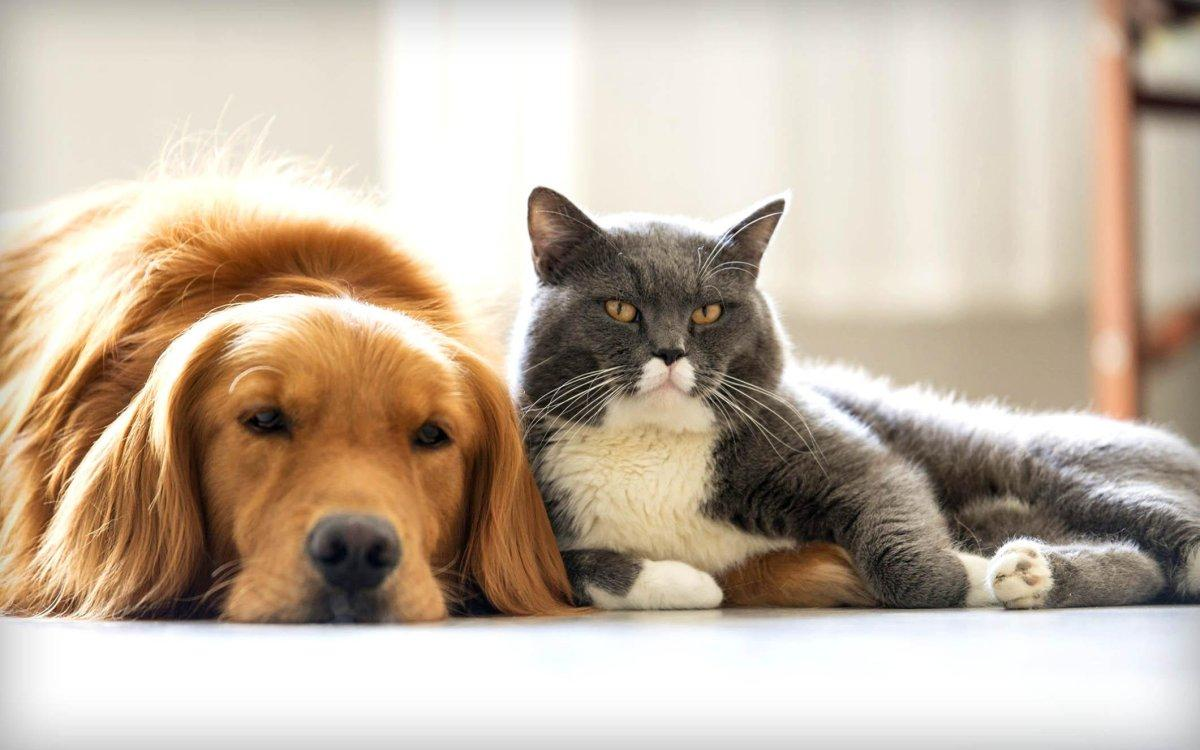animals: (483, 178, 1200, 625), (0, 141, 512, 661)
